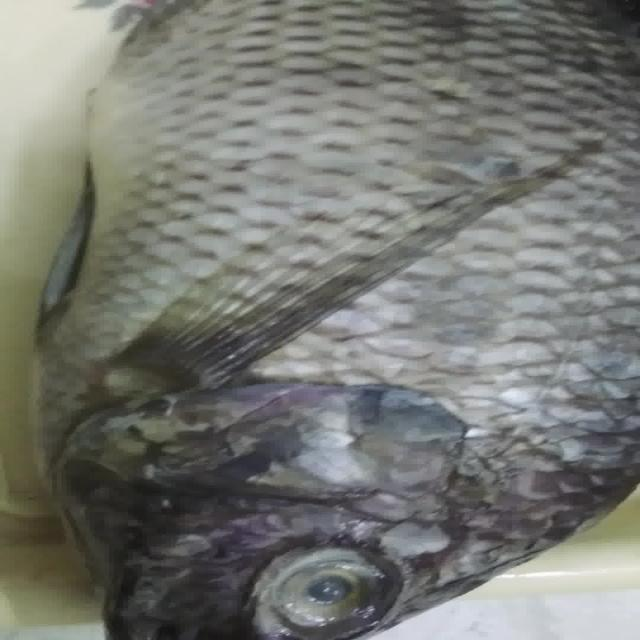Non-Fresh: (75, 244, 606, 510), (253, 546, 395, 634)
